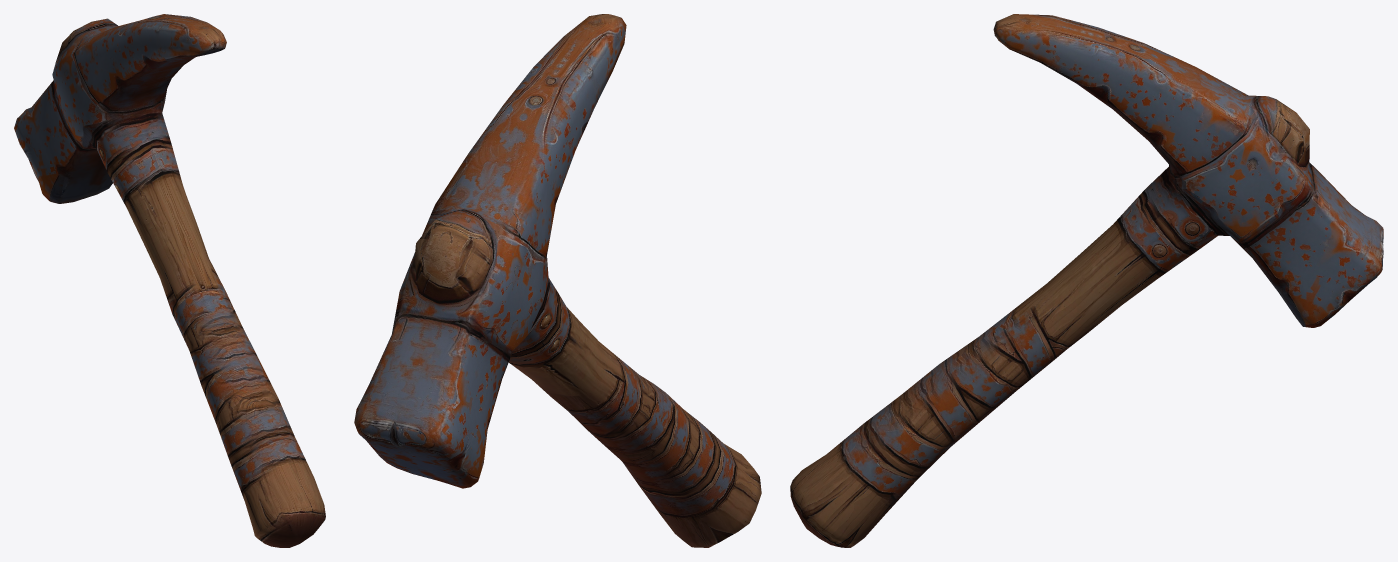
Rendered from hammer.fbx.
3 renders of one model, left to right at view 1: azimuth 30°, elevation 25°; view 2: azimuth 150°, elevation 25°; view 3: azimuth 270°, elevation 25°, orthographic. The views are drawn at different scales.
Parts seen in each view (by area): view 1: tripo_node_0a225ac7; view 2: tripo_node_0a225ac7; view 3: tripo_node_0a225ac7.
Part boxes in pixels (x1,y1,x2,y2): tripo_node_0a225ac7: (14, 14, 325, 547); tripo_node_0a225ac7: (354, 14, 761, 547); tripo_node_0a225ac7: (790, 14, 1383, 547).
Bounding box in the file's own units: 0.1673 × 0.9648 × 0.9877.
Materials: 1 (1 with a texture image).
